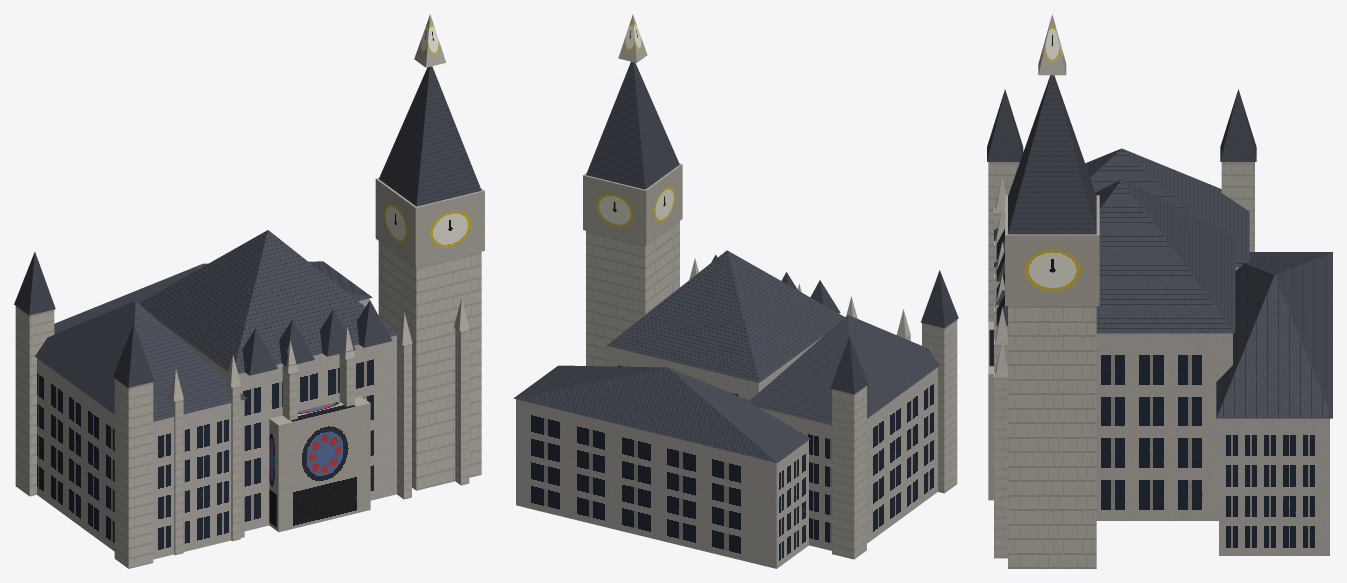
The model's file is landmark_royal_courts_of_justice.glb.
The picture shows the model from 3 angles, left to right: view 1: azimuth 30°, elevation 25°; view 2: azimuth 150°, elevation 25°; view 3: azimuth 270°, elevation 25°; orthographic projection. The views are drawn at different scales.
Visible parts, largest first — view 1: Landmark_Royal_Courts_Of_Justice; view 2: Landmark_Royal_Courts_Of_Justice; view 3: Landmark_Royal_Courts_Of_Justice.
Part boxes in pixels (left/top/right/bottom): Landmark_Royal_Courts_Of_Justice: left=14, top=14, right=484, bottom=568; Landmark_Royal_Courts_Of_Justice: left=513, top=14, right=958, bottom=568; Landmark_Royal_Courts_Of_Justice: left=987, top=14, right=1332, bottom=568.
Size of the model in its own units: 17.85 by 21.3 by 12.45.
Materials: 1 (1 with a texture image).
